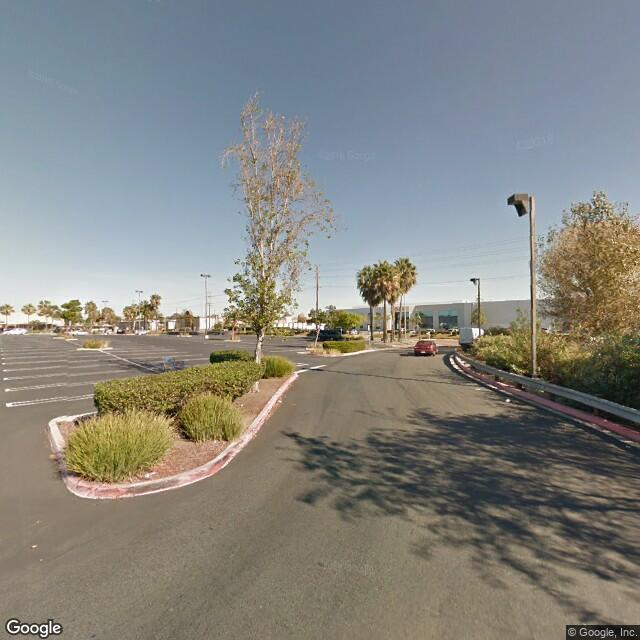litter: (144, 471, 155, 479), (238, 402, 247, 408), (506, 395, 511, 403), (277, 398, 282, 405), (474, 387, 480, 391)
